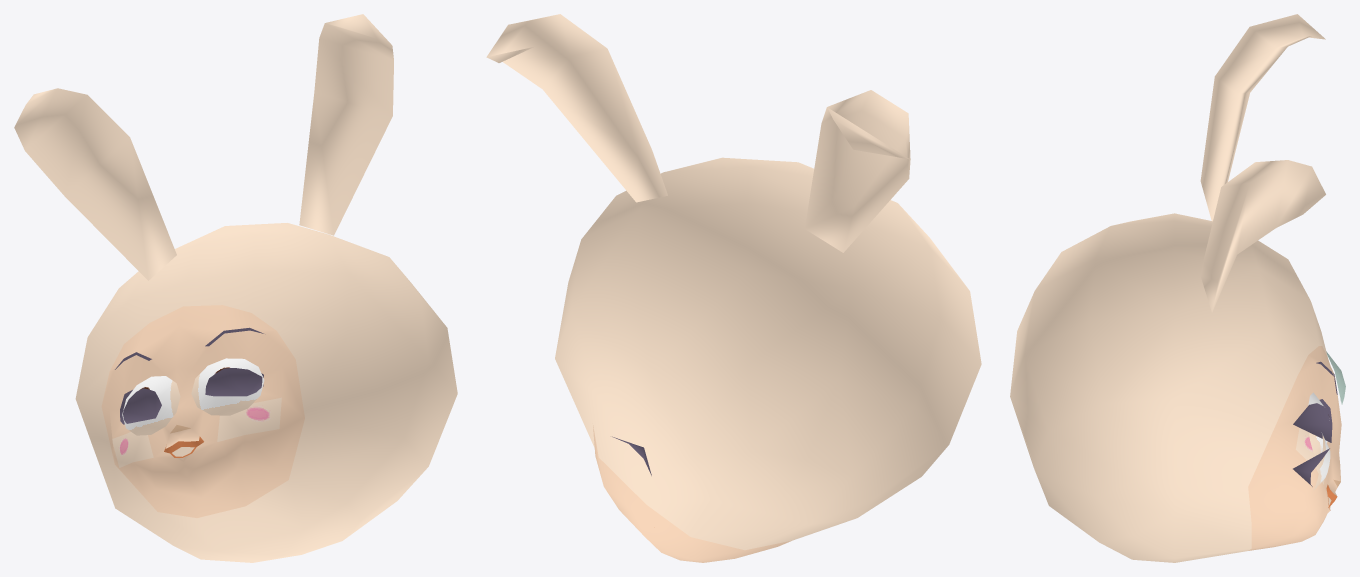
The model's file is ps2_save-icons_mrgolf.glb.
The picture shows the model from 3 angles, left to right: view 1: azimuth 30°, elevation 25°; view 2: azimuth 150°, elevation 25°; view 3: azimuth 270°, elevation 25°; orthographic projection. The views are drawn at different scales.
Parts seen in each view (by area): view 1: mc.ico; view 2: mc.ico; view 3: mc.ico.
Part boxes in pixels (x1,y1,x2,y2): mc.ico: (14, 14, 457, 562); mc.ico: (486, 14, 981, 562); mc.ico: (1010, 14, 1345, 562).
Size of the model in its own units: 4.07 by 4.65 by 3.2.
1 material, 1 textured.
